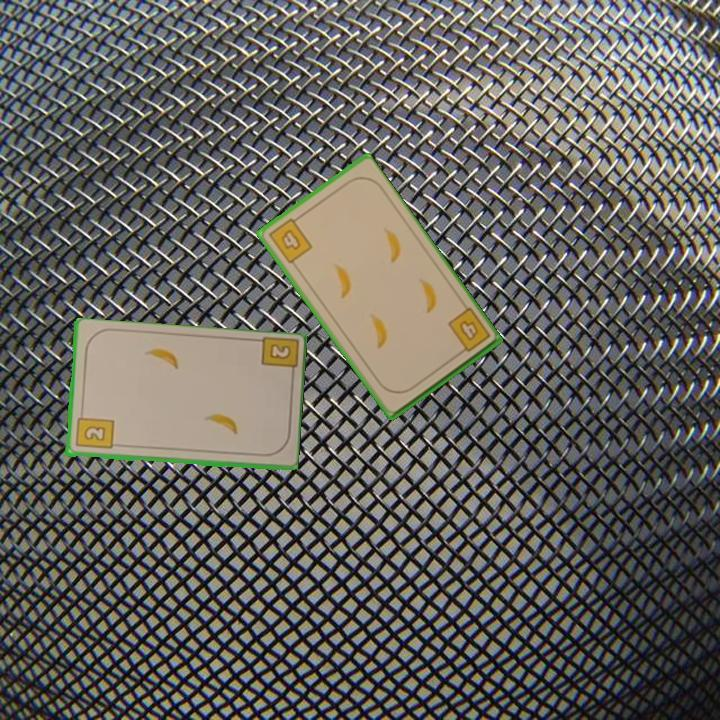2b: (257, 335, 299, 382), (72, 408, 116, 452)
4b: (265, 212, 315, 267), (444, 304, 493, 359)
